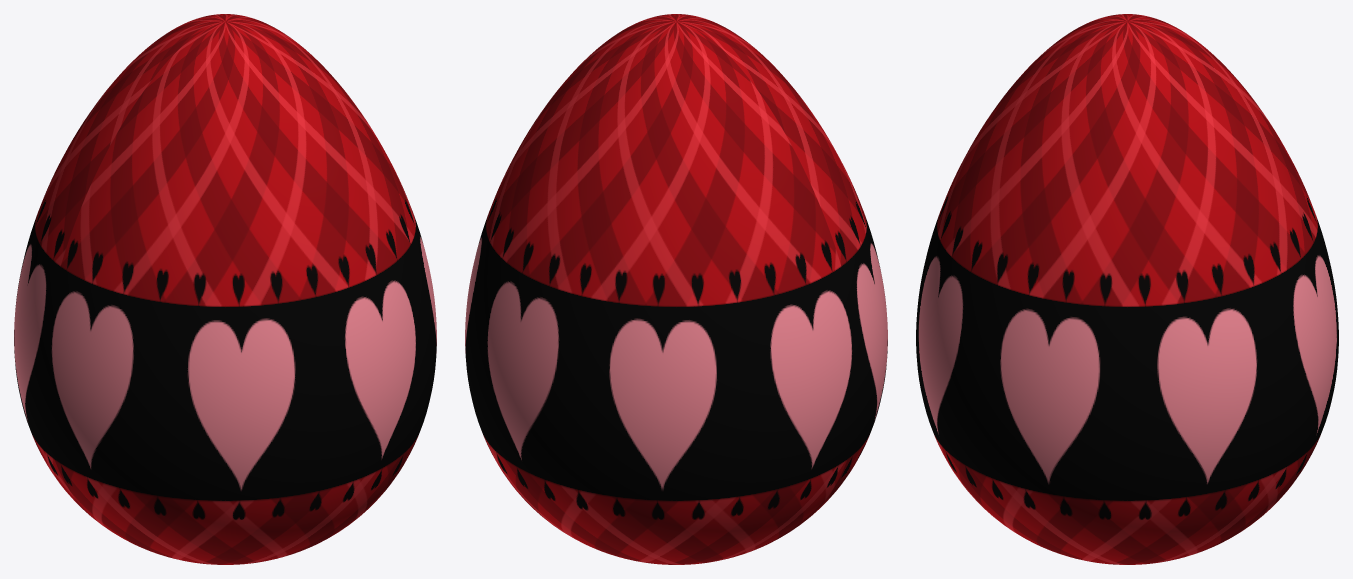
The model's file is egg.fbx.
3 views of the same model, side by side, from view 1: azimuth 30°, elevation 25°; view 2: azimuth 150°, elevation 25°; view 3: azimuth 270°, elevation 25° (orthographic).
Parts seen in each view (by area): view 1: Egg; view 2: Egg; view 3: Egg.
Boxes of the visible parts, left/top/right/bottom form: Egg: left=14, top=14, right=436, bottom=564; Egg: left=465, top=14, right=887, bottom=564; Egg: left=916, top=14, right=1338, bottom=564.
Size of the model in its own units: 2.05 by 2.8 by 2.05.
Materials: 1 (1 with a texture image).
